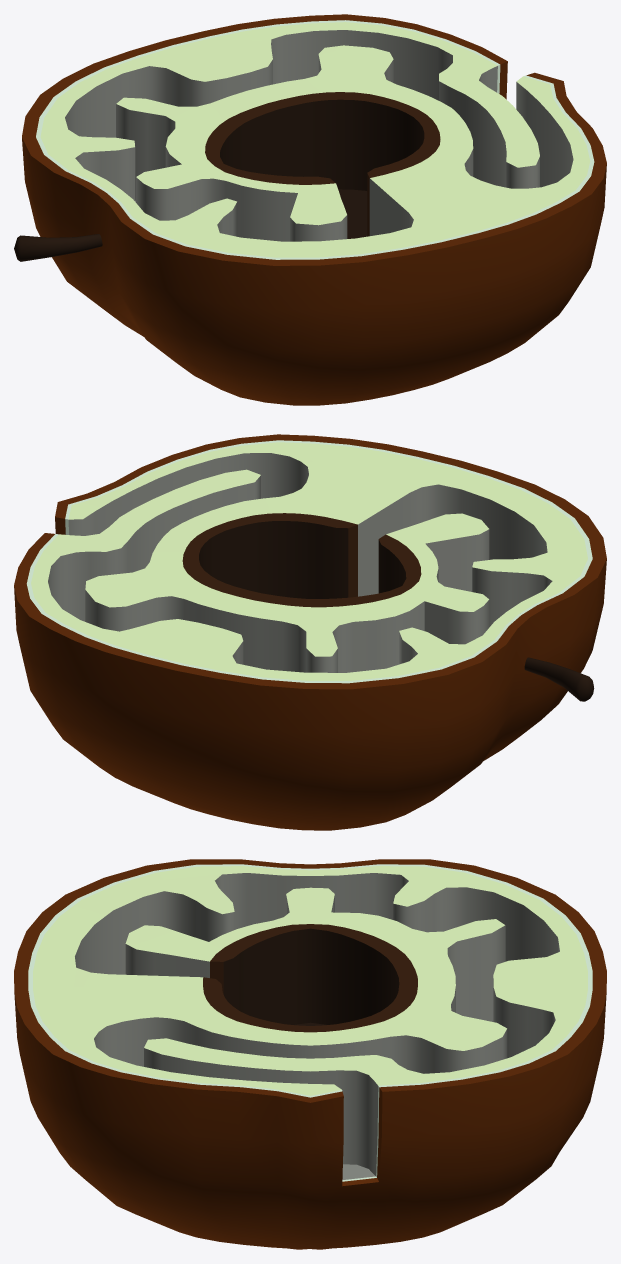
File: peach.FBX
3 views of the same model, one above another, from view 1: azimuth 30°, elevation 25°; view 2: azimuth 150°, elevation 25°; view 3: azimuth 270°, elevation 25° (orthographic). The views are drawn at different scales.
Visible parts, largest first — view 1: Object009, Object010, Object014, Object012, Object006, Object013, Line001; view 2: Object009, Object010, Object014, Object012, Object006, Object013, Line001; view 3: Object009, Object010, Object014, Object012, Object006, Object013.
Boxes of the visible parts, x1=… form: Object009: x1=22, y1=14, x2=606, y2=405; Object010: x1=40, y1=22, x2=590, y2=257; Object014: x1=65, y1=30, x2=573, y2=241; Object012: x1=220, y1=99, x2=424, y2=238; Object006: x1=205, y1=92, x2=440, y2=236; Object013: x1=36, y1=20, x2=594, y2=259; Line001: x1=14, y1=234, x2=102, y2=261; Object009: x1=14, y1=434, x2=606, y2=830; Object010: x1=31, y1=442, x2=587, y2=680; Object014: x1=48, y1=453, x2=552, y2=672; Object012: x1=199, y1=521, x2=406, y2=598; Object006: x1=182, y1=513, x2=421, y2=607; Object013: x1=26, y1=440, x2=592, y2=683; Line001: x1=524, y1=657, x2=594, y2=701; Object009: x1=14, y1=859, x2=606, y2=1249; Object010: x1=33, y1=866, x2=587, y2=1095; Object014: x1=75, y1=873, x2=559, y2=1179; Object012: x1=223, y1=928, x2=399, y2=1025; Object006: x1=203, y1=924, x2=417, y2=1032; Object013: x1=28, y1=864, x2=592, y2=1181.
Bounding box in the file's own units: 244 × 222 × 103.
